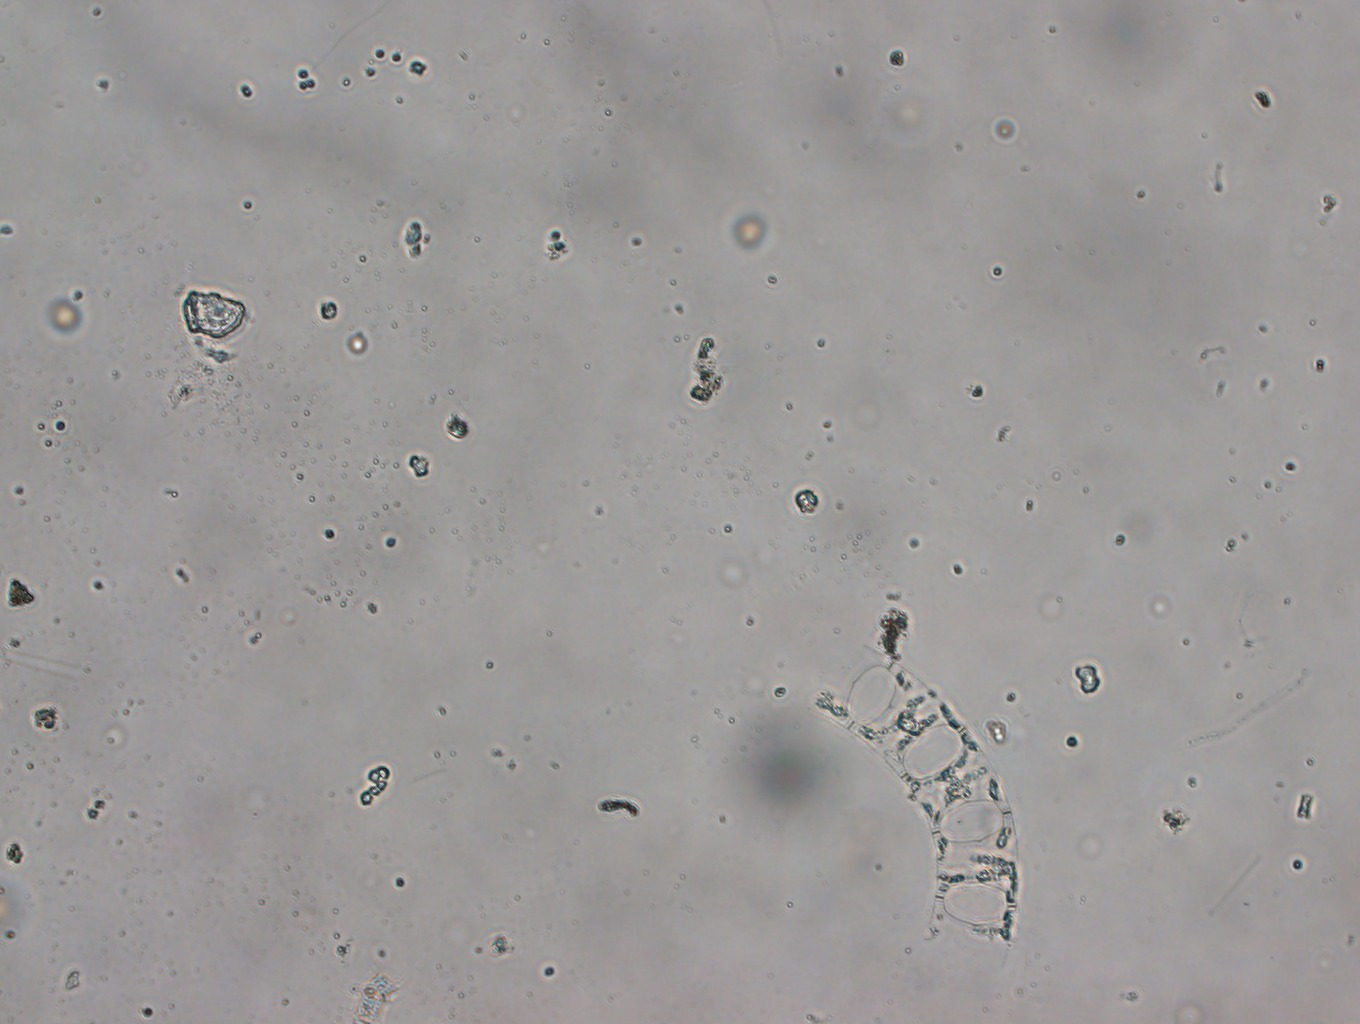eucampia: (816, 640, 1022, 953)
